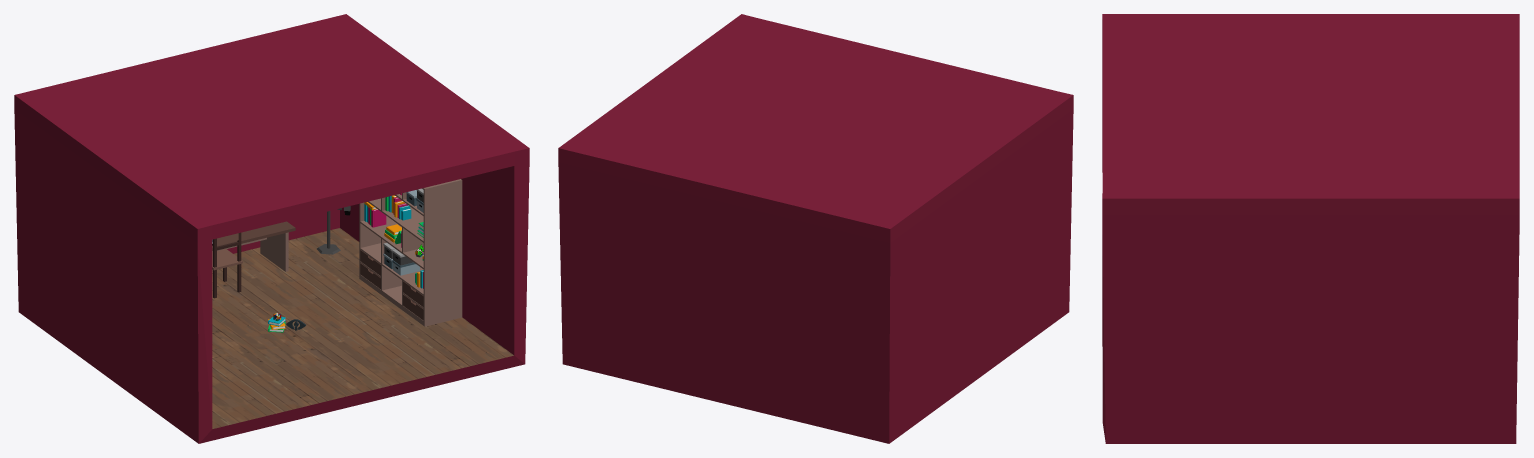
Rendered from spot light scene.obj.
3 renders of one model, left to right at view 1: azimuth 30°, elevation 25°; view 2: azimuth 150°, elevation 25°; view 3: azimuth 270°, elevation 25°, orthographic. The views are drawn at different scales.
Parts seen in each view (by area): view 1: walls_Plane, floor_Plane.001, bookshelf_Cube.002, desk_Cube.006, chair_Cube.010; view 2: walls_Plane; view 3: walls_Plane.
Boxes of the visible parts, left/top/right/bottom form: walls_Plane: left=14, top=14, right=529, bottom=443; floor_Plane.001: left=212, top=228, right=513, bottom=428; bookshelf_Cube.002: left=359, top=179, right=462, bottom=326; desk_Cube.006: left=212, top=221, right=295, bottom=271; chair_Cube.010: left=212, top=232, right=242, bottom=298; walls_Plane: left=558, top=14, right=1073, bottom=443; walls_Plane: left=1102, top=14, right=1519, bottom=443.
Bounding box in the file's own units: 21.98 × 13.71 × 21.01.
35 materials, 35 textured.
